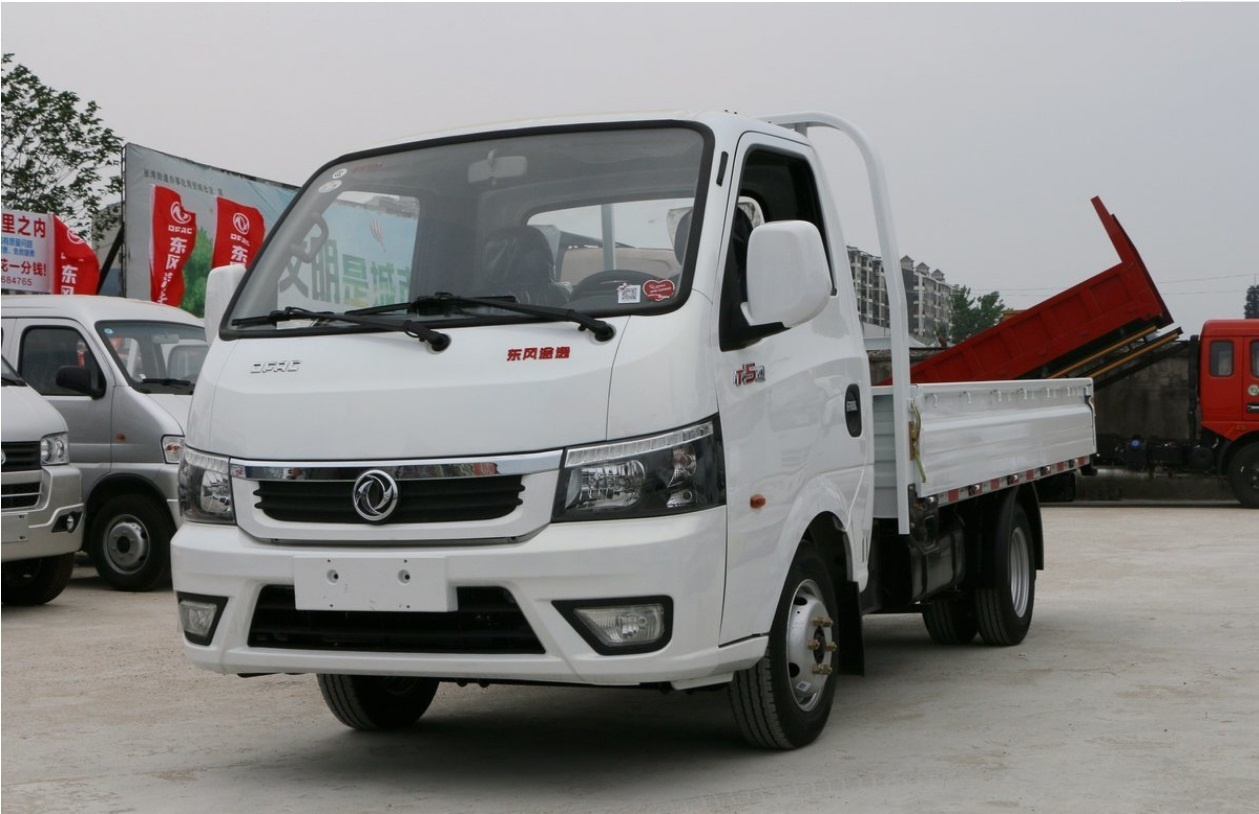truck: (163, 113, 1113, 737)
